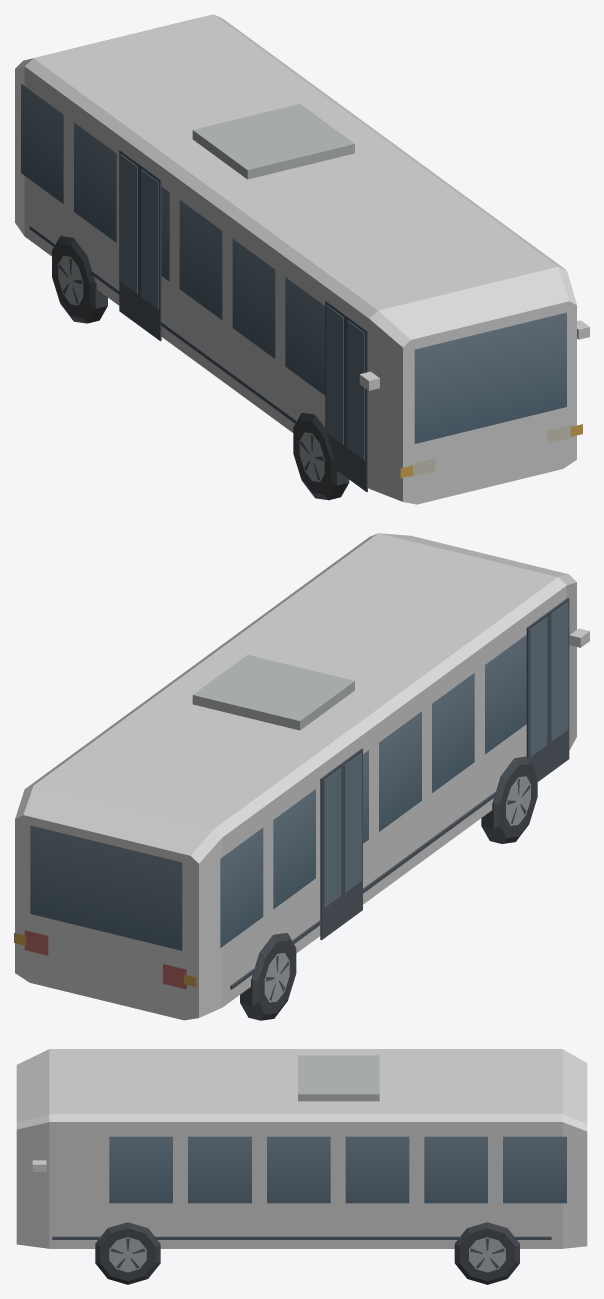
File: bus.glb
3 renders of one model, top to bottom at view 1: azimuth 30°, elevation 25°; view 2: azimuth 150°, elevation 25°; view 3: azimuth 270°, elevation 25°, orthographic. The views are drawn at different scales.
Visible parts, largest first — view 1: body; view 2: body; view 3: body.
Boxes of the visible parts, x1,y1,x2,y2 form: body: [15, 14, 589, 504]; body: [14, 533, 589, 1020]; body: [16, 1049, 587, 1284].
Bounding box in the file's own units: 2.33 × 2.35 × 7.05.
